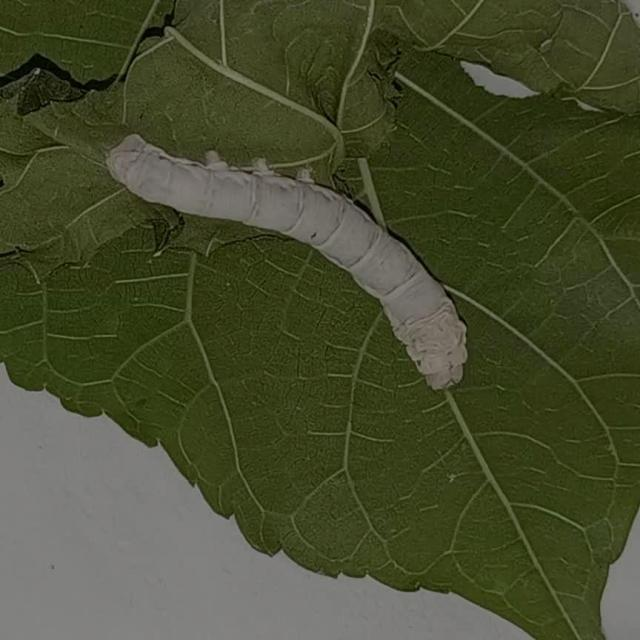Healthy: (94, 94, 516, 457)
